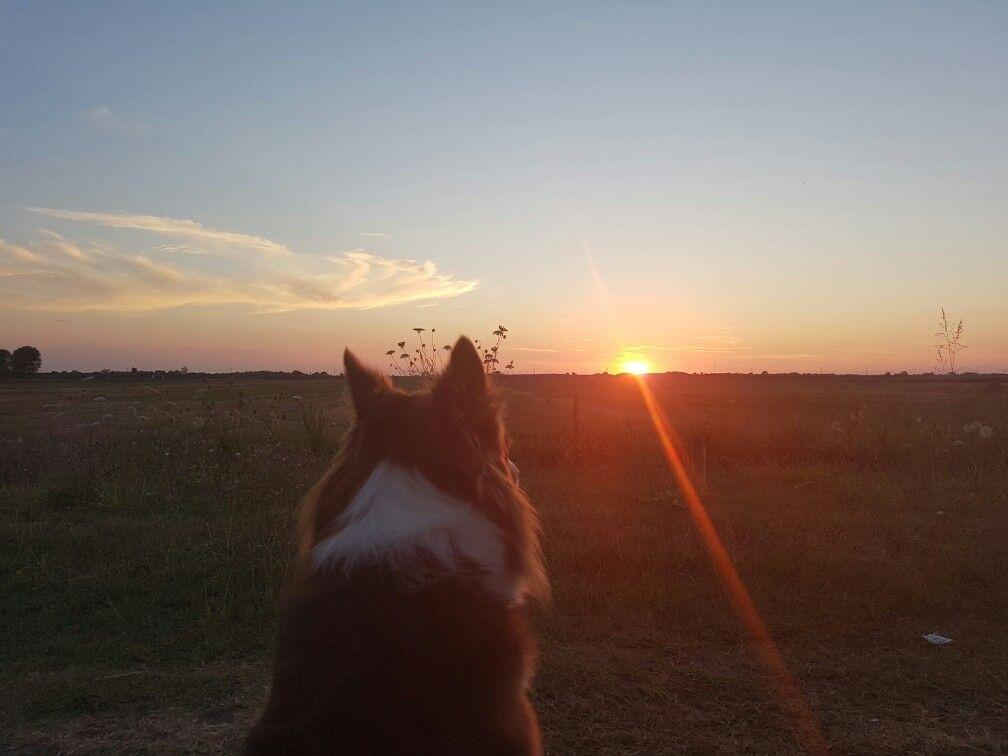adult_dog: (249, 335, 554, 756)
